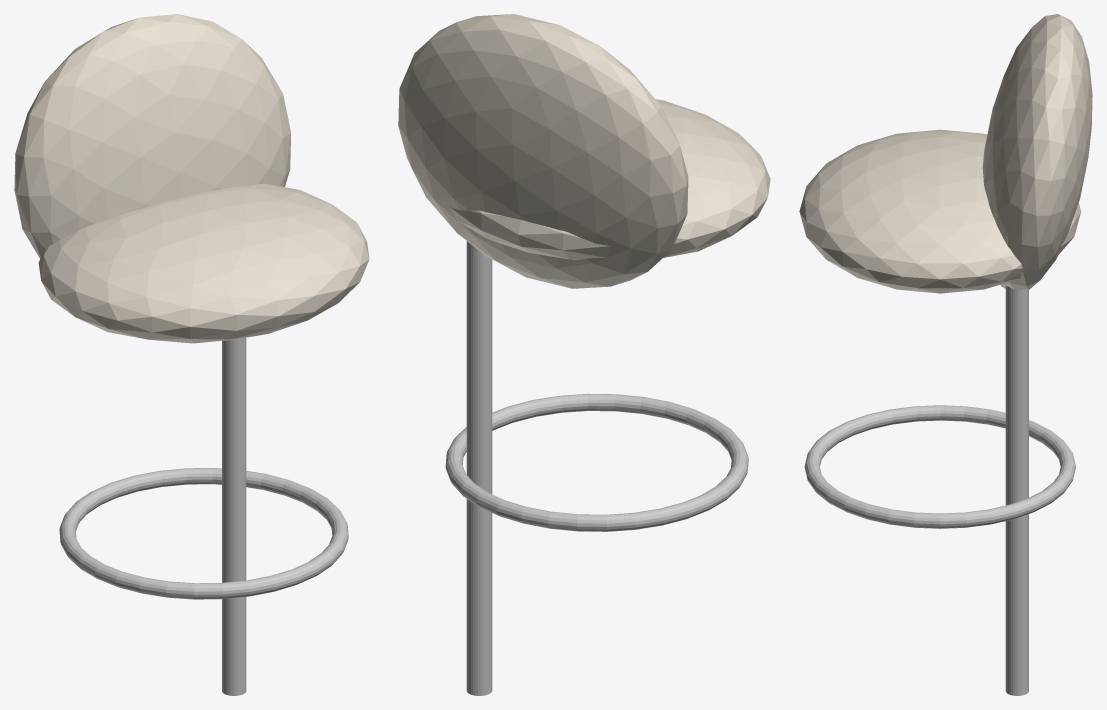
File: bar_stool.glb
The picture shows the model from 3 angles, left to right: view 1: azimuth 30°, elevation 25°; view 2: azimuth 150°, elevation 25°; view 3: azimuth 270°, elevation 25°; orthographic projection. The views are drawn at different scales.
Visible parts, largest first — view 1: FABRIC_MAIN_back, FABRIC_MAIN_seat, METAL_footrest, METAL_DARK_leg; view 2: FABRIC_MAIN_back, FABRIC_MAIN_seat, METAL_DARK_leg, METAL_footrest; view 3: FABRIC_MAIN_seat, FABRIC_MAIN_back, METAL_DARK_leg, METAL_footrest.
Boxes of the visible parts, x1=… form: FABRIC_MAIN_back: x1=14, y1=14, x2=290, y2=258; FABRIC_MAIN_seat: x1=38, y1=183, x2=369, y2=343; METAL_footrest: x1=59, y1=468, x2=348, y2=599; METAL_DARK_leg: x1=222, y1=338, x2=246, y2=695; FABRIC_MAIN_back: x1=398, y1=14, x2=688, y2=288; FABRIC_MAIN_seat: x1=450, y1=99, x2=770, y2=259; METAL_DARK_leg: x1=466, y1=241, x2=492, y2=695; METAL_footrest: x1=445, y1=393, x2=748, y2=531; FABRIC_MAIN_seat: x1=799, y1=129, x2=1081, y2=293; FABRIC_MAIN_back: x1=982, y1=14, x2=1092, y2=289; METAL_DARK_leg: x1=1005, y1=286, x2=1028, y2=695; METAL_footrest: x1=804, y1=405, x2=1075, y2=528.
Size of the model in its own units: 0.5 by 1.09 by 0.4577.
